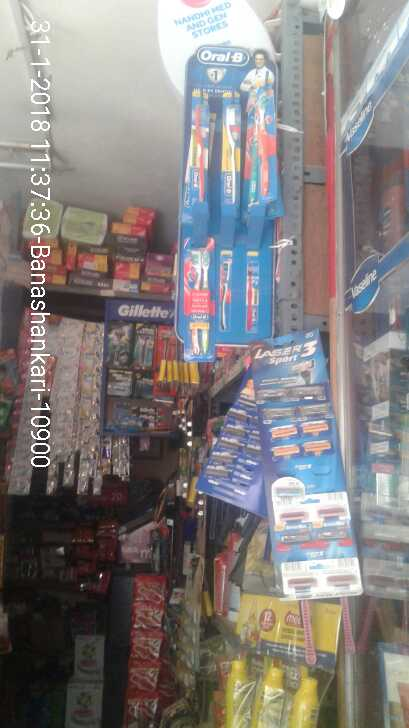oralb: (247, 94, 291, 205), (184, 91, 214, 212), (184, 245, 215, 345), (221, 96, 240, 200)
